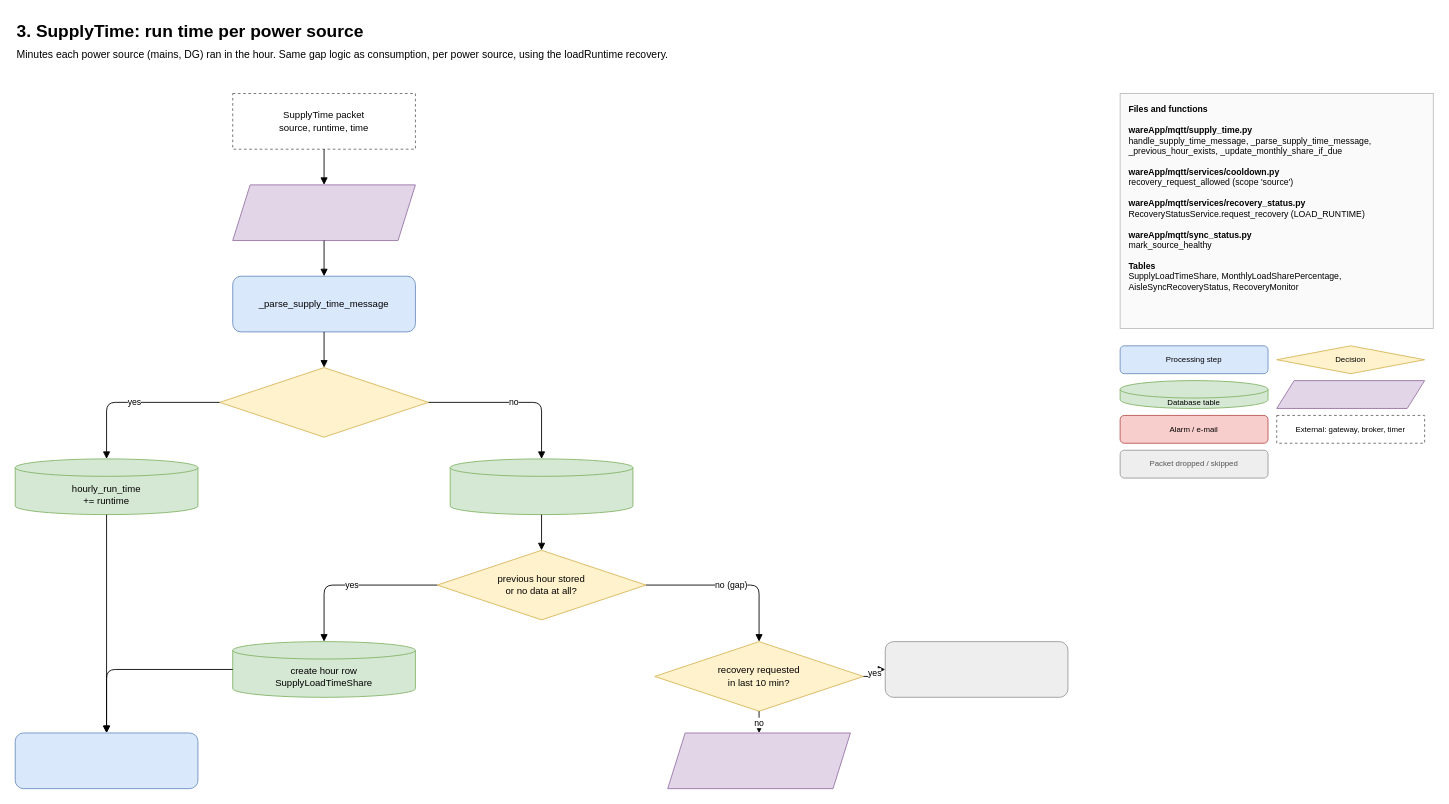
The diagram is 1449 pixels wide and 804 high, and some of its shapes have lost their labels. Here are the shapes that lost their labels. From the top down, the centre of each, then its label:
point 323,212: queue1_processing process_mqtt_message
point 323,402: current hour row for this source?
point 1350,394: RabbitMQ queue / MQTT topic
point 541,486: new month? _update_monthly_share_if_due -> MonthlyLoadSharePercentage
point 976,669: skipped (cooldown)
point 106,760: mark_source_healthy
point 758,760: request_recovery loadRuntime -> publish .../in/sync/loadTime/state
